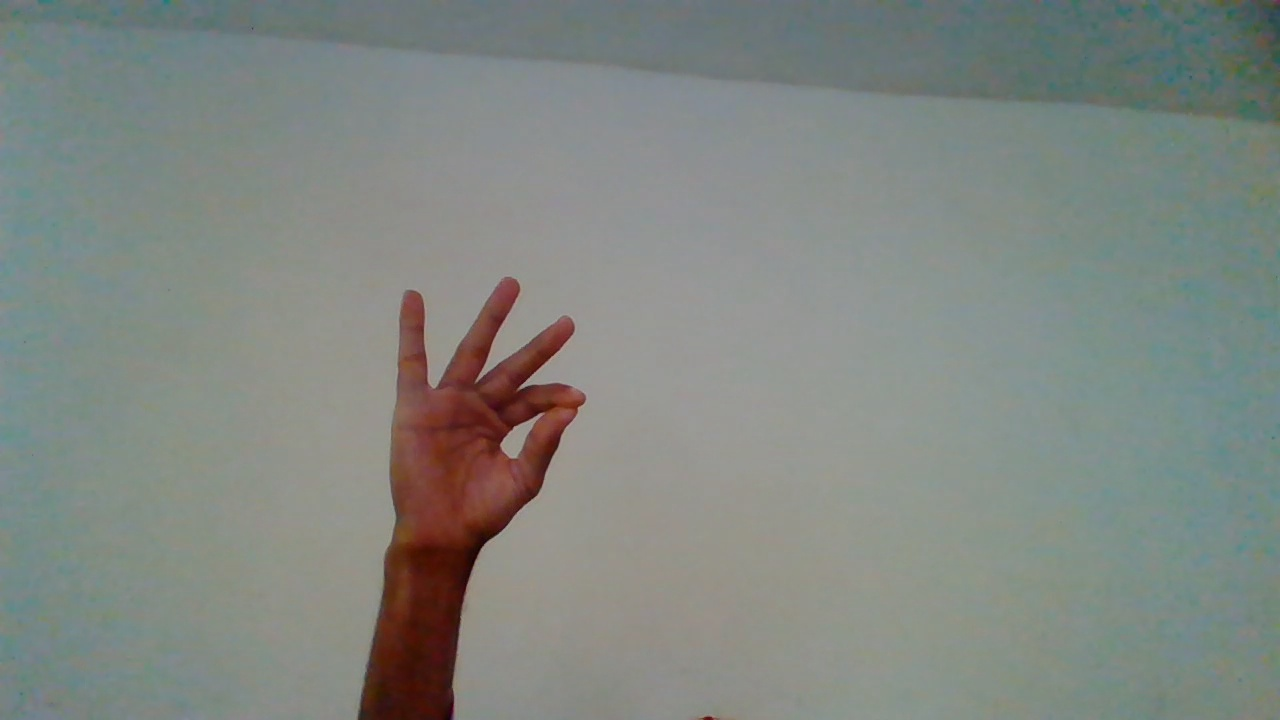le: (392, 277, 590, 655)
